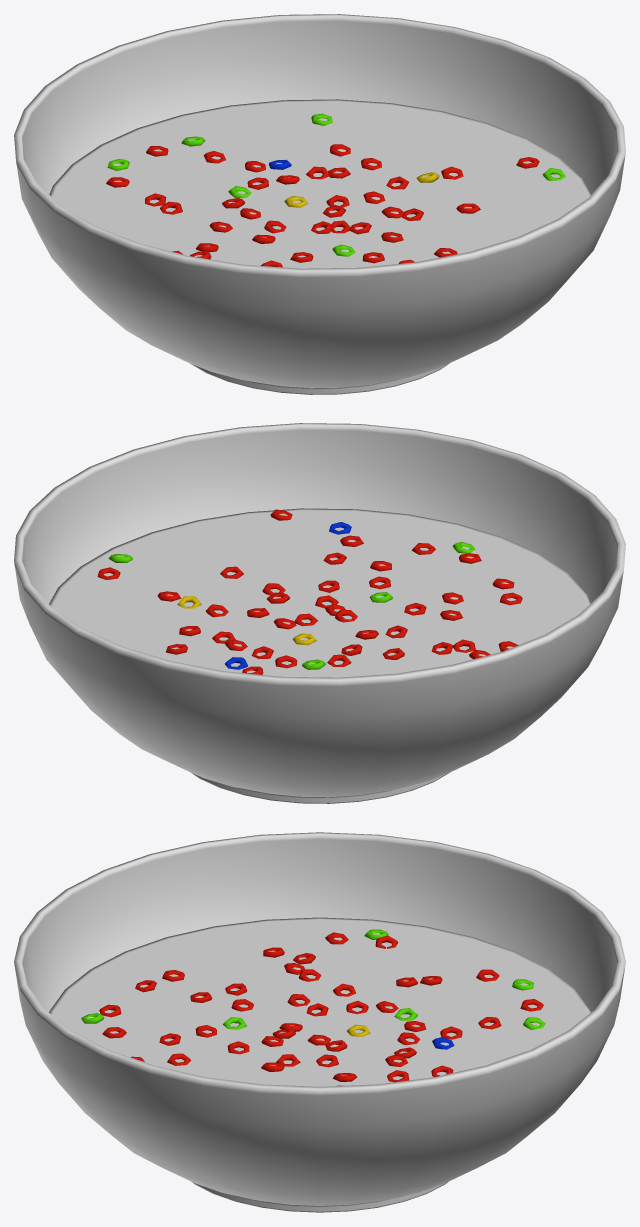
The model's file is FullBowl 1.fbx.
The picture shows the model from 3 angles, top to bottom: view 1: azimuth 30°, elevation 25°; view 2: azimuth 150°, elevation 25°; view 3: azimuth 270°, elevation 25°; orthographic projection.
Visible parts, largest first — view 1: Sphere.018, Torus.050; view 2: Sphere.018, Torus.050; view 3: Sphere.018, Torus.050.
Boxes of the visible parts, x1=… form: Sphere.018: x1=14, y1=14, x2=625, y2=394; Torus.050: x1=49, y1=99, x2=590, y2=268; Sphere.018: x1=14, y1=423, x2=625, y2=803; Torus.050: x1=49, y1=508, x2=590, y2=677; Sphere.018: x1=14, y1=832, x2=625, y2=1212; Torus.050: x1=49, y1=917, x2=590, y2=1086.
Size of the model in its own units: 200 by 67.84 by 200.
